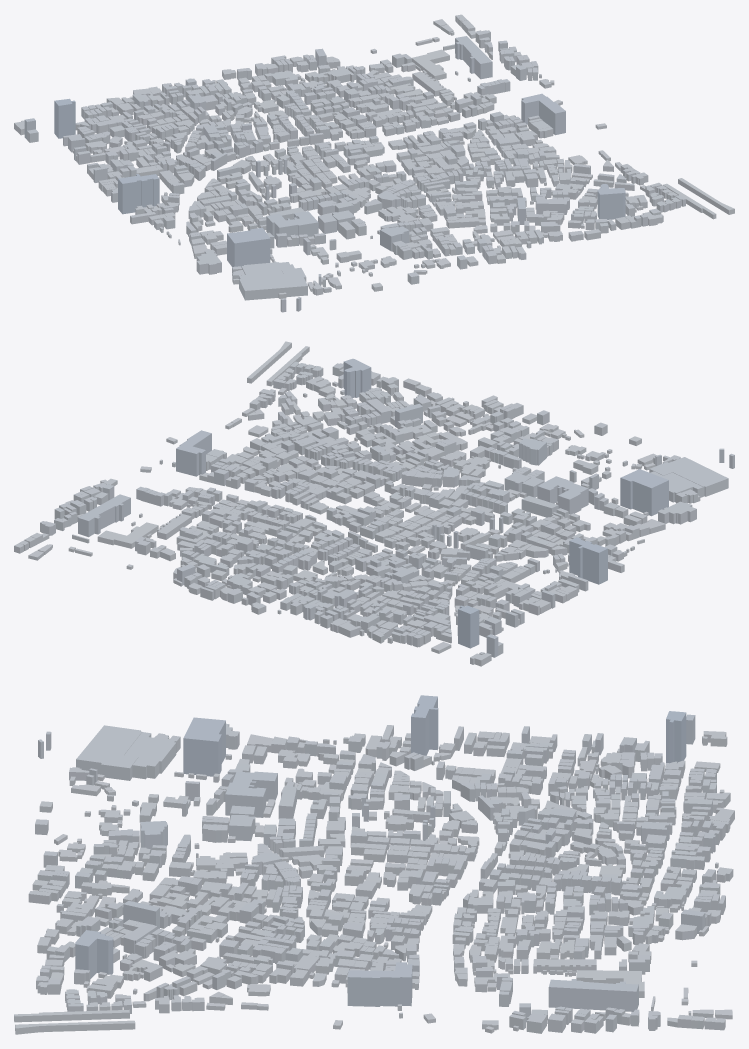
3 views of the same model, one above another, from view 1: azimuth 30°, elevation 25°; view 2: azimuth 150°, elevation 25°; view 3: azimuth 270°, elevation 25° (orthographic). The views are drawn at different scales.
Bounding box in the file's own units: 519 × 35.2 × 524.
